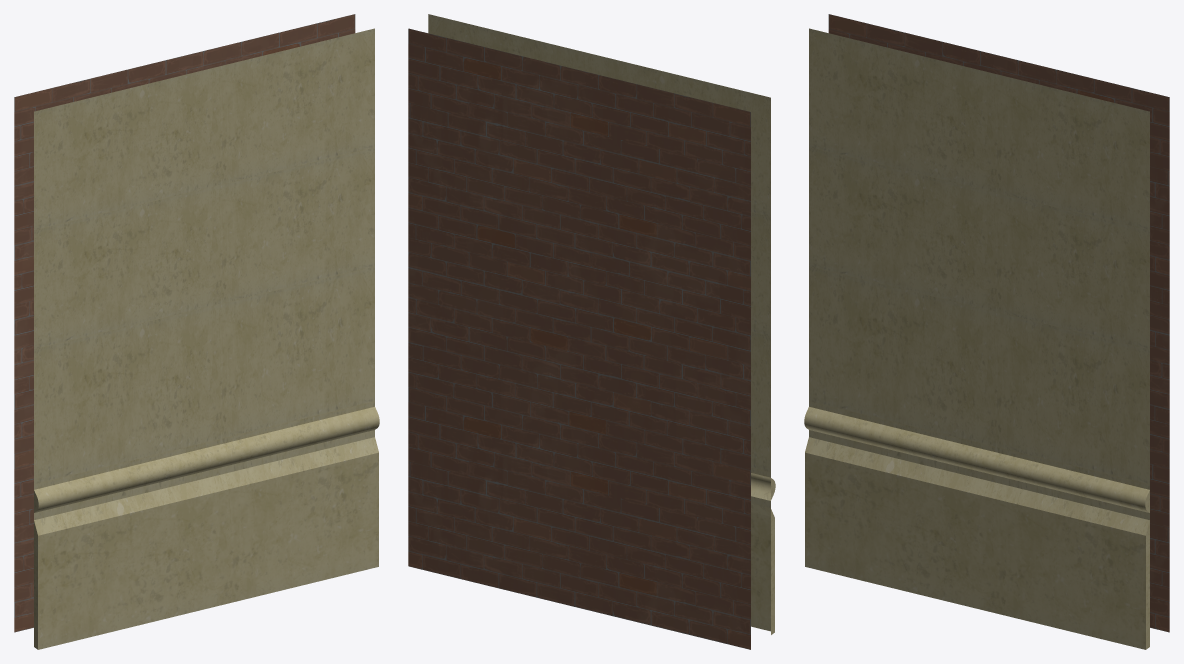
Rendered from Trim_FirstFloor_Wall.gltf.
3 views of the same model, side by side, from view 1: azimuth 30°, elevation 25°; view 2: azimuth 150°, elevation 25°; view 3: azimuth 330°, elevation 25° (orthographic).
Visible parts, largest first — view 1: Trim_FirstFloor_Wall; view 2: Trim_FirstFloor_Wall; view 3: Trim_FirstFloor_Wall.
Boxes of the visible parts, x1=… form: Trim_FirstFloor_Wall: x1=14, y1=14, x2=379, y2=649; Trim_FirstFloor_Wall: x1=408, y1=14, x2=775, y2=649; Trim_FirstFloor_Wall: x1=804, y1=14, x2=1169, y2=649.
Bounding box in the file's own units: 2 × 3 × 0.2478.
Materials: 2 (2 with a texture image).
